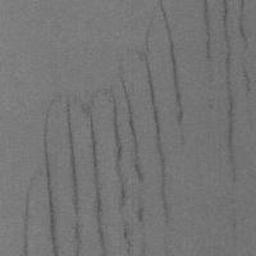Inclusion: (41, 82, 147, 256), (118, 0, 186, 225), (220, 0, 239, 166), (17, 173, 37, 256), (238, 0, 253, 93), (201, 0, 215, 64), (134, 198, 147, 224)
